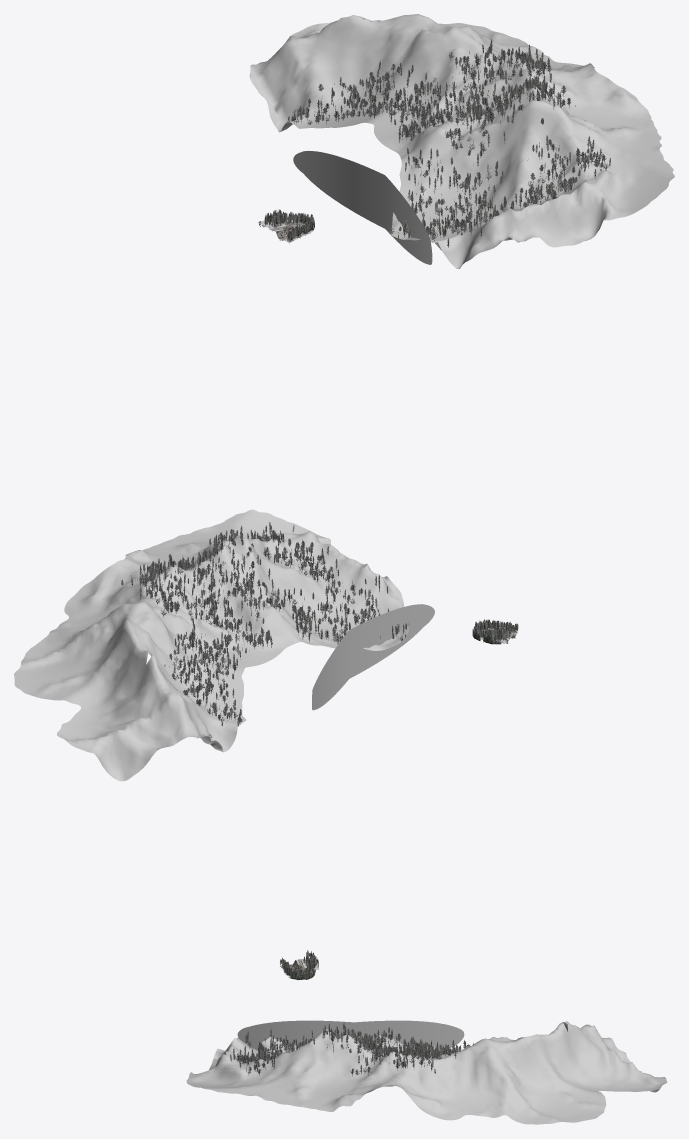
Rendered from SNOWY_MOUNTAIN_ROAD.obj.
3 renders of one model, top to bottom at view 1: azimuth 30°, elevation 25°; view 2: azimuth 150°, elevation 25°; view 3: azimuth 270°, elevation 25°, orthographic. The views are drawn at different scales.
Visible parts, largest first — view 1: MOUNTAIN, BACKGROUND_TREES, MIST, BACKGROUND_TREES.001; view 2: MOUNTAIN, BACKGROUND_TREES, MIST, BACKGROUND_TREES.001; view 3: MOUNTAIN, MIST, BACKGROUND_TREES, BACKGROUND_TREES.001.
Boxes of the visible parts, x1,y1,x2,y2 form: MOUNTAIN: (249, 14, 674, 268); BACKGROUND_TREES: (288, 39, 610, 247); MIST: (293, 150, 432, 264); BACKGROUND_TREES.001: (259, 209, 314, 241); MOUNTAIN: (14, 509, 409, 781); BACKGROUND_TREES: (121, 522, 406, 737); MIST: (312, 604, 434, 710); BACKGROUND_TREES.001: (472, 619, 518, 644); MOUNTAIN: (186, 1021, 666, 1124); MIST: (237, 1020, 464, 1050); BACKGROUND_TREES: (230, 1023, 473, 1076); BACKGROUND_TREES.001: (280, 950, 318, 979).
Bounding box in the file's own units: 822 × 297 × 1312.
